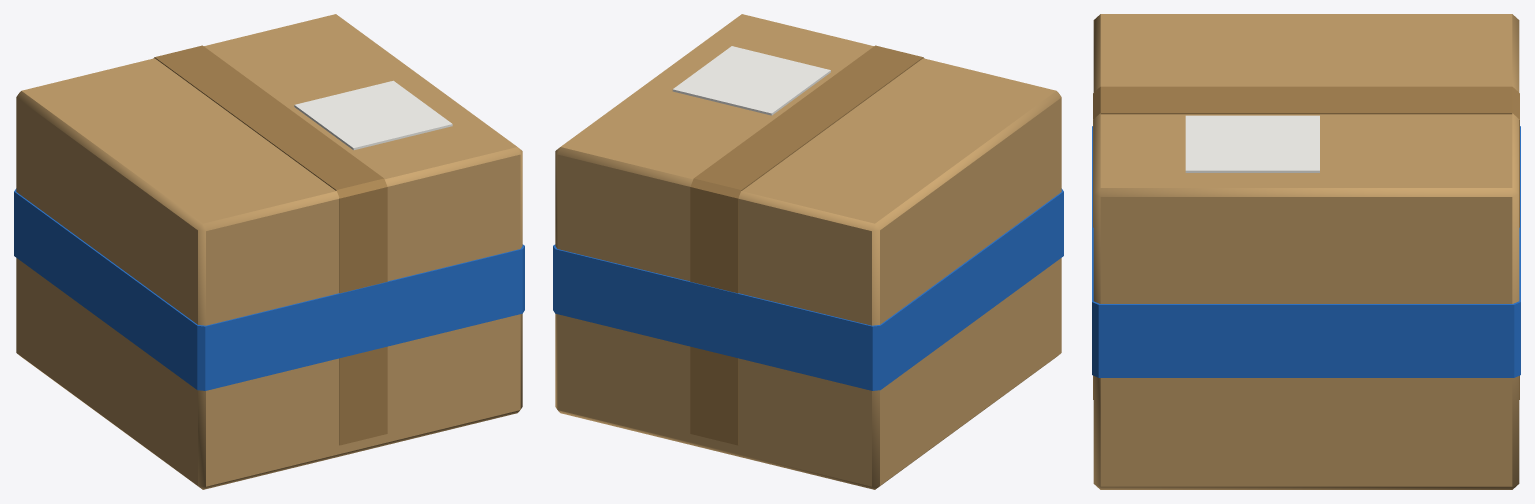
Rendered from parcel.glb.
3 renders of one model, left to right at view 1: azimuth 30°, elevation 25°; view 2: azimuth 150°, elevation 25°; view 3: azimuth 270°, elevation 25°, orthographic. The views are drawn at different scales.
Visible parts, largest first — view 1: parcel_structure; view 2: parcel_structure; view 3: parcel_structure.
Part boxes in pixels (x1,y1,x2,y2): parcel_structure: (14, 14, 524, 489); parcel_structure: (553, 14, 1063, 489); parcel_structure: (1092, 14, 1520, 489).
Size of the model in its own units: 0.958 by 0.75 by 0.958.
